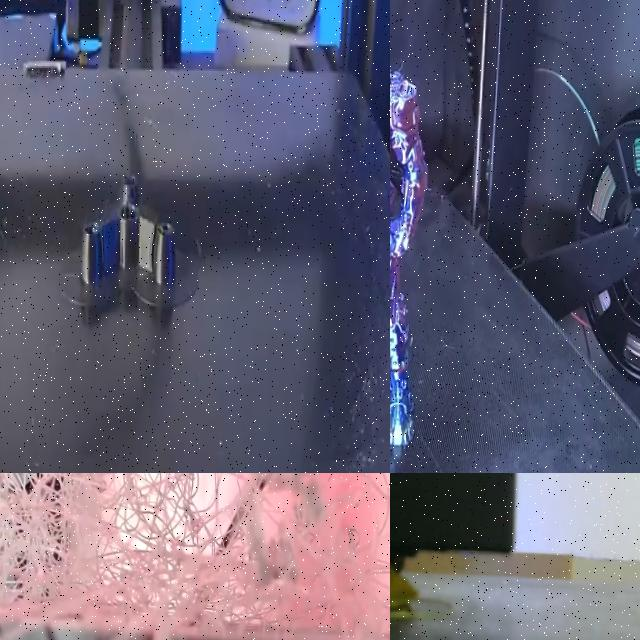spaghetti: (0, 473, 390, 640), (390, 561, 418, 609)
